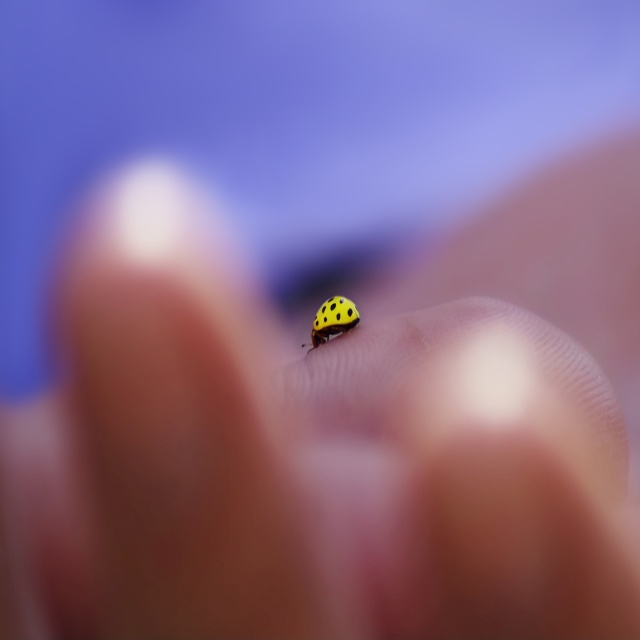Ladybug: (301, 295, 364, 360)
